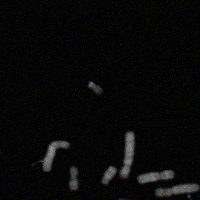chromosome: (43, 139, 69, 172), (119, 131, 134, 179), (155, 183, 200, 196), (137, 169, 174, 184), (101, 165, 116, 184), (68, 166, 79, 191), (87, 81, 102, 94), (116, 198, 175, 200)
